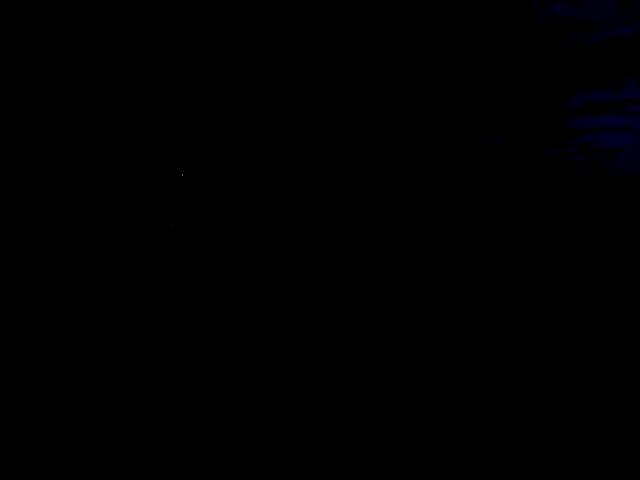plane: (180, 172, 193, 178)
